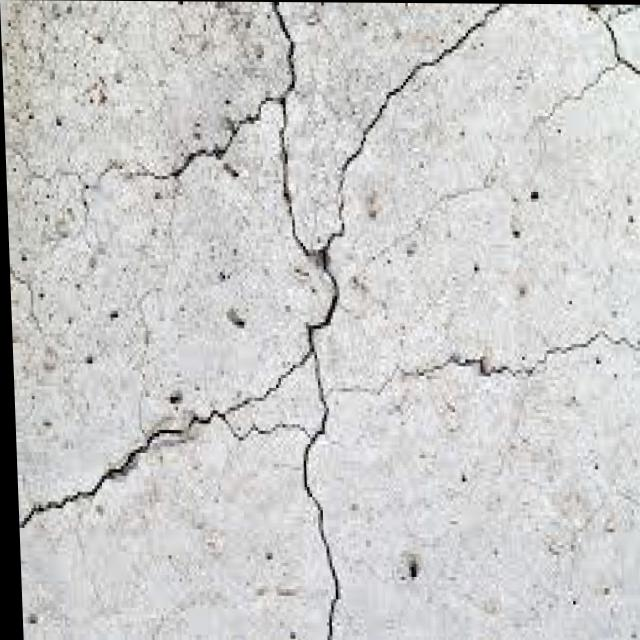Crack: (258, 24, 359, 635), (26, 393, 240, 522), (452, 320, 624, 383)
